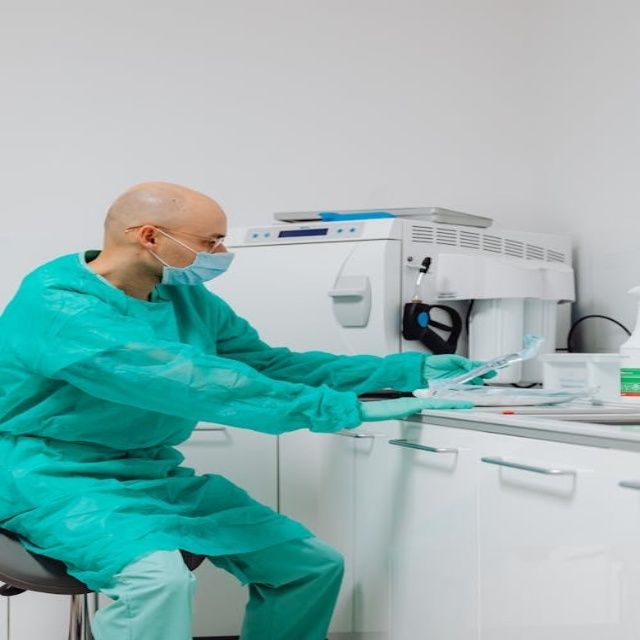Gafas: (128, 227, 228, 253)
Guantes: (358, 395, 478, 423), (420, 354, 498, 387)
Mascara: (148, 228, 235, 286)
